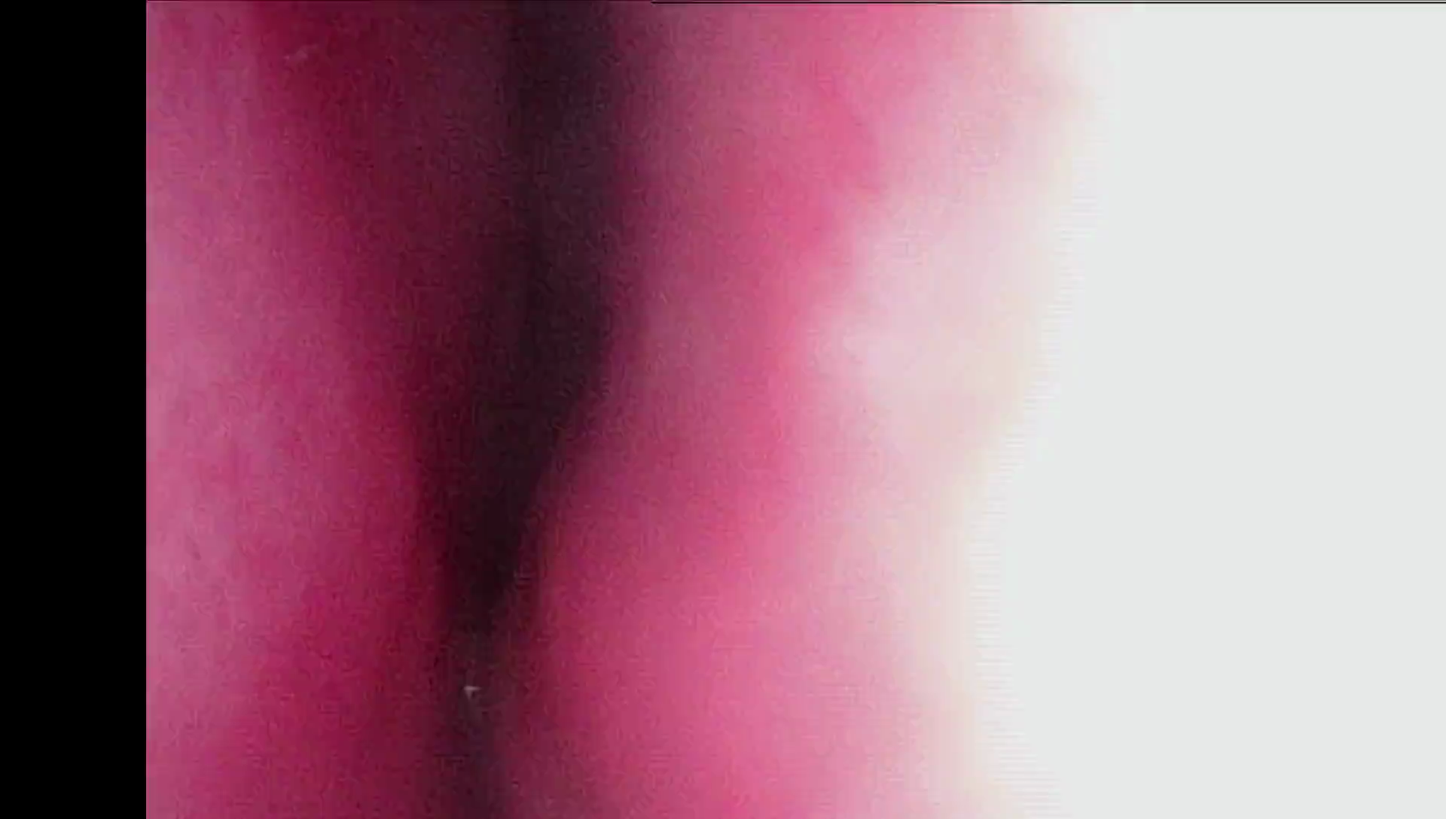close_wall: (715, 11, 1446, 819), (152, 13, 380, 819)
next: (411, 327, 603, 686)
